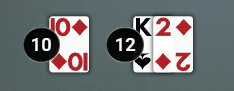10: (49, 17, 72, 38)
2: (152, 16, 174, 39)
k: (132, 16, 152, 39)
